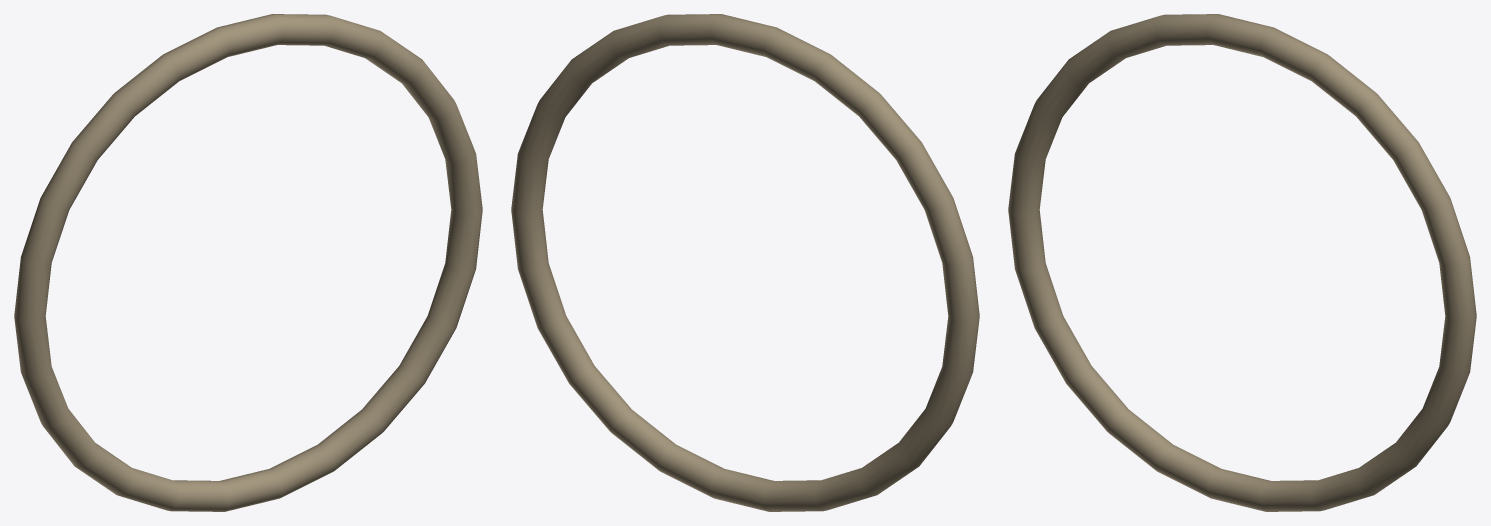
Rendered from hvergelmir-basin-ring.glb.
3 views of the same model, side by side, from view 1: azimuth 30°, elevation 25°; view 2: azimuth 150°, elevation 25°; view 3: azimuth 330°, elevation 25° (orthographic).
Visible parts, largest first — view 1: Hvergelmir Basin Ring; view 2: Hvergelmir Basin Ring; view 3: Hvergelmir Basin Ring.
Part boxes in pixels (<box>): Hvergelmir Basin Ring: <box>14,14,482,511</box>; Hvergelmir Basin Ring: <box>511,14,979,511</box>; Hvergelmir Basin Ring: <box>1008,14,1476,511</box>.
Size of the model in its own units: 23.41 by 23.24 by 1.38.
